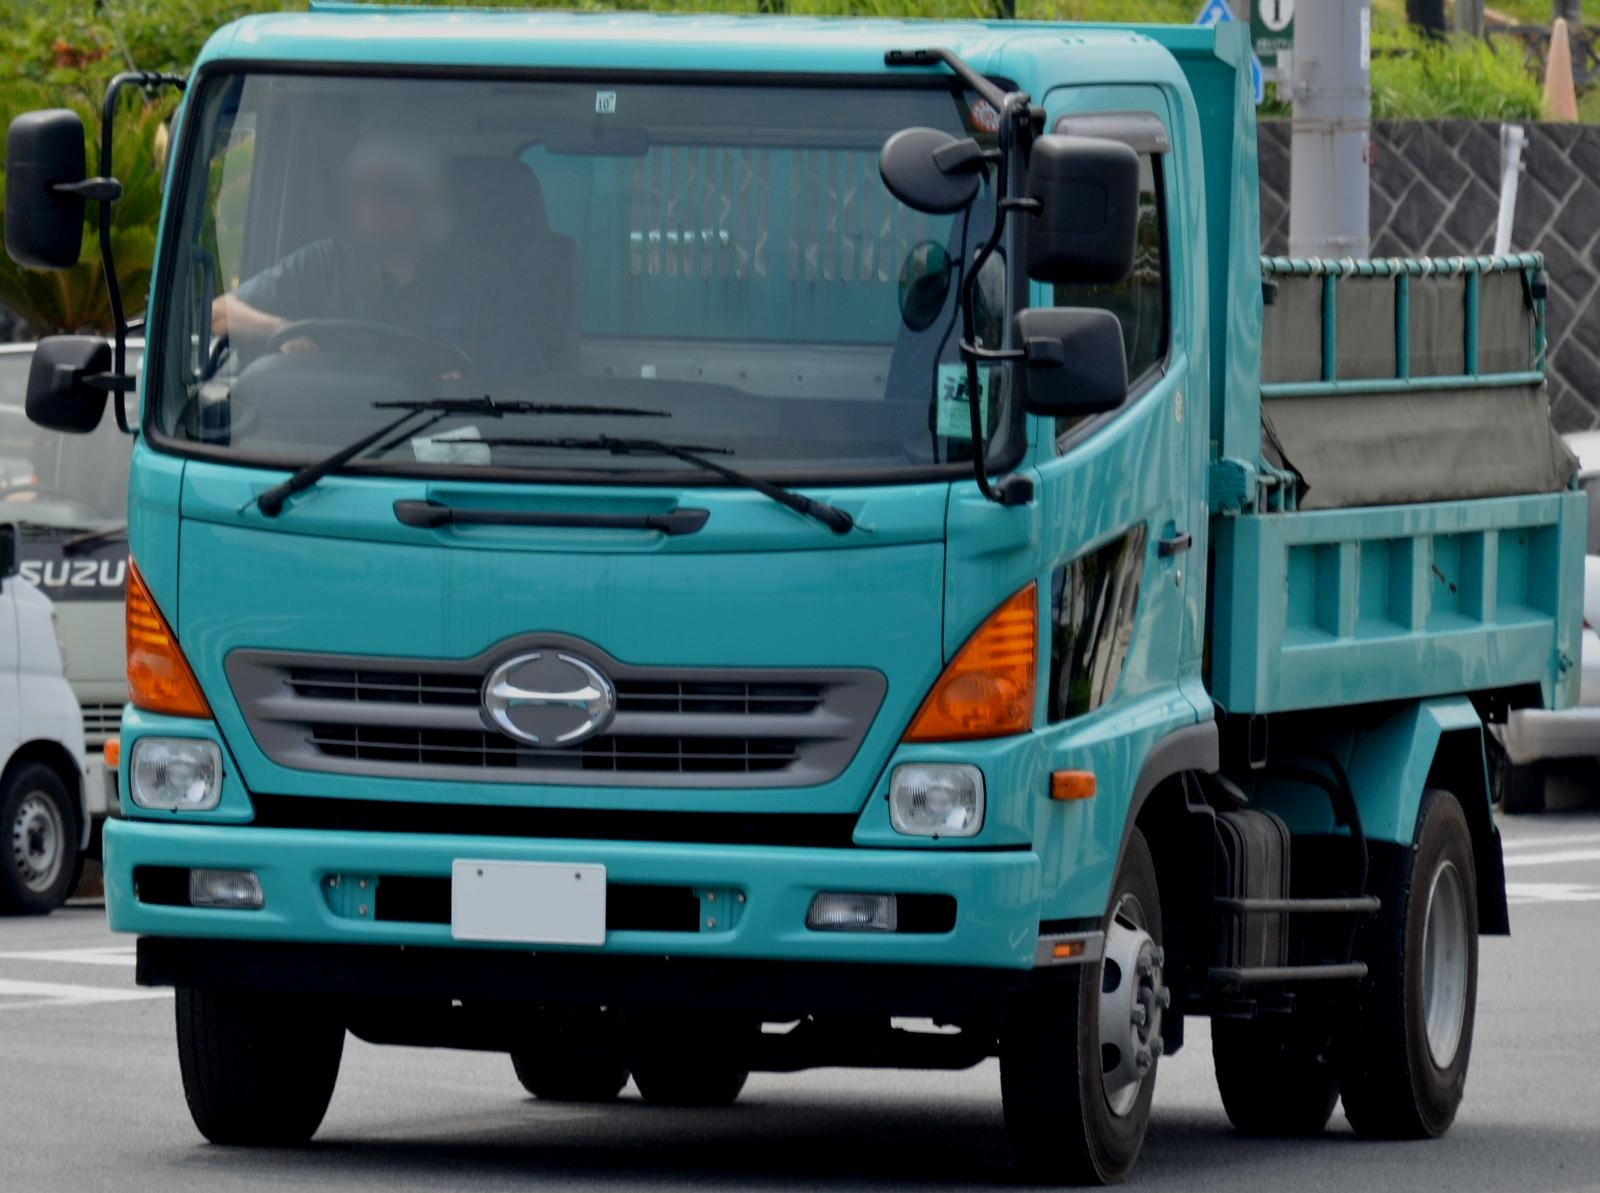truck: (89, 10, 1577, 1193)
